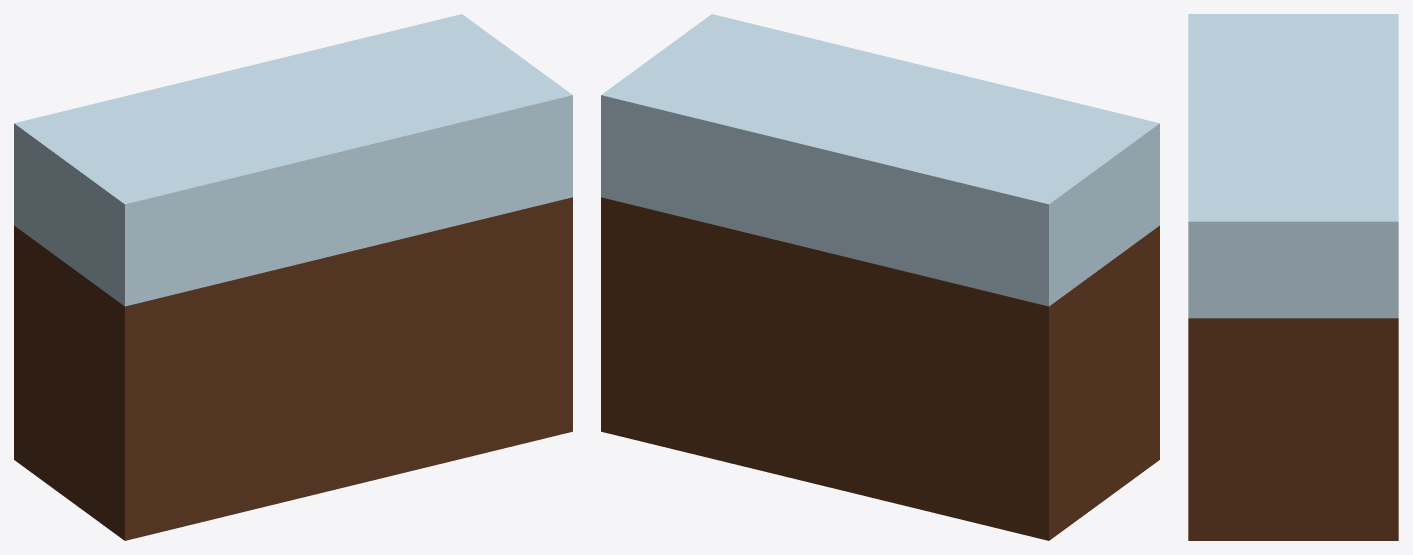
The model's file is display_case.glb.
3 renders of one model, left to right at view 1: azimuth 30°, elevation 25°; view 2: azimuth 150°, elevation 25°; view 3: azimuth 270°, elevation 25°, orthographic. The views are drawn at different scales.
Visible parts, largest first — view 1: base_case_wood, glass_top_case_glass, glass_front_case_glass, glass_side_case_glass; view 2: base_case_wood, glass_top_case_glass, glass_back_case_glass, glass_side_case_glass; view 3: base_case_wood, glass_top_case_glass, glass_side_case_glass, glass_front_case_glass, glass_back_case_glass.
Boxes of the visible parts, x1,y1,x2,y2 form: base_case_wood: (14,197,572,540); glass_top_case_glass: (14,14,572,205); glass_front_case_glass: (123,97,572,306); glass_side_case_glass: (14,98,572,306); base_case_wood: (601,197,1159,540); glass_top_case_glass: (601,14,1159,205); glass_back_case_glass: (601,97,1050,306); glass_side_case_glass: (601,99,1159,305); base_case_wood: (1188,318,1398,540); glass_top_case_glass: (1188,14,1398,224); glass_side_case_glass: (1189,223,1398,318); glass_front_case_glass: (1188,223,1191,318); glass_back_case_glass: (1395,223,1398,318).
Bounding box in the file's own units: 1.4 × 1 × 0.6.
